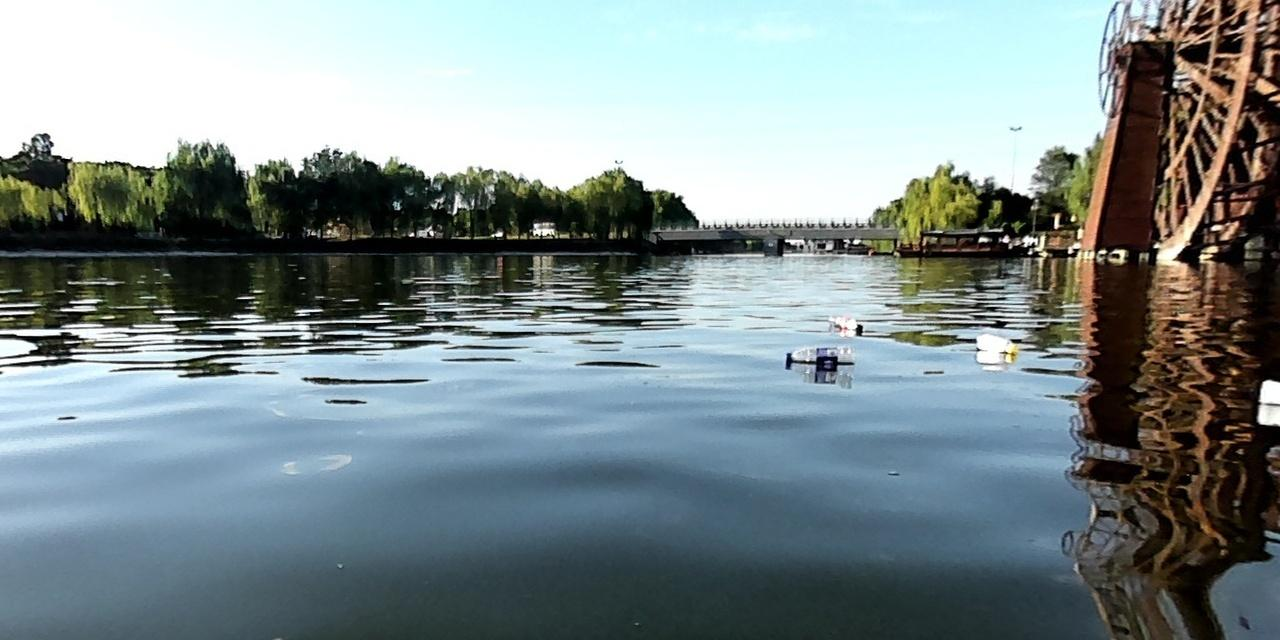bottle: (783, 340, 854, 365), (973, 327, 1017, 353), (824, 308, 866, 334)
